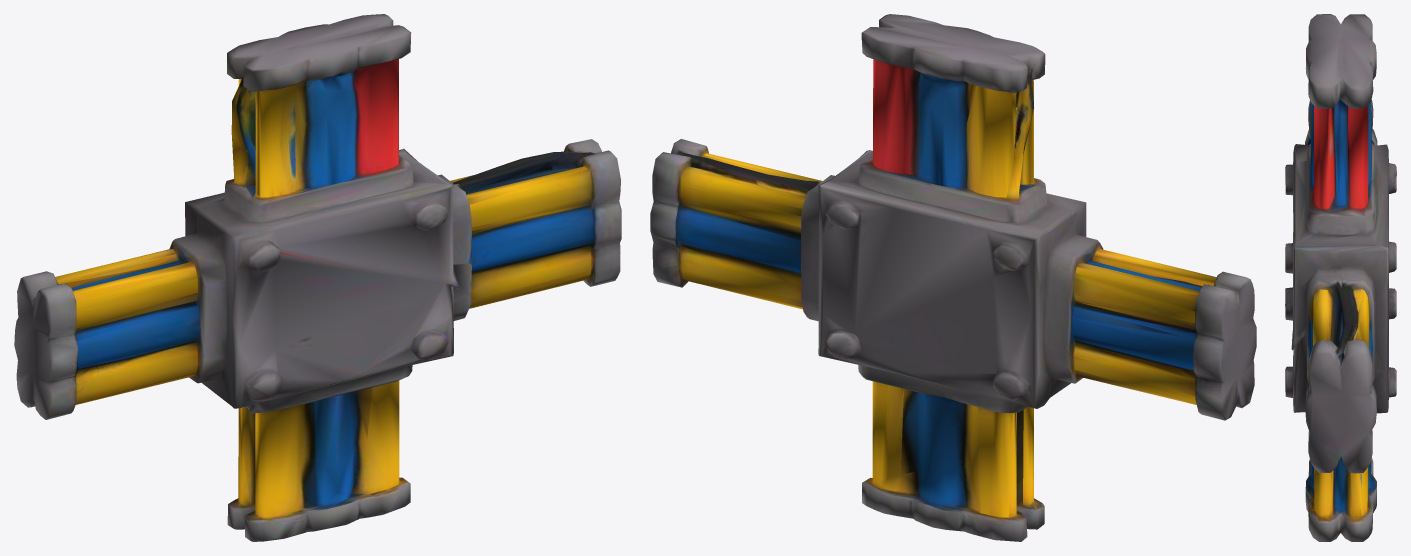
Rendered from joint_pipes_X_idle.glb.
The picture shows the model from 3 angles, left to right: view 1: azimuth 30°, elevation 25°; view 2: azimuth 150°, elevation 25°; view 3: azimuth 270°, elevation 25°; orthographic projection. The views are drawn at different scales.
Parts seen in each view (by area): view 1: joint_pipes_X; view 2: joint_pipes_X; view 3: joint_pipes_X.
Part boxes in pixels (left/top/right/bottom): joint_pipes_X: left=14, top=14, right=621, bottom=541; joint_pipes_X: left=650, top=14, right=1256, bottom=541; joint_pipes_X: left=1285, top=14, right=1396, bottom=541.
Bounding box in the file's own units: 1.52 × 1.2 × 0.2673.
1 material, 1 textured.
